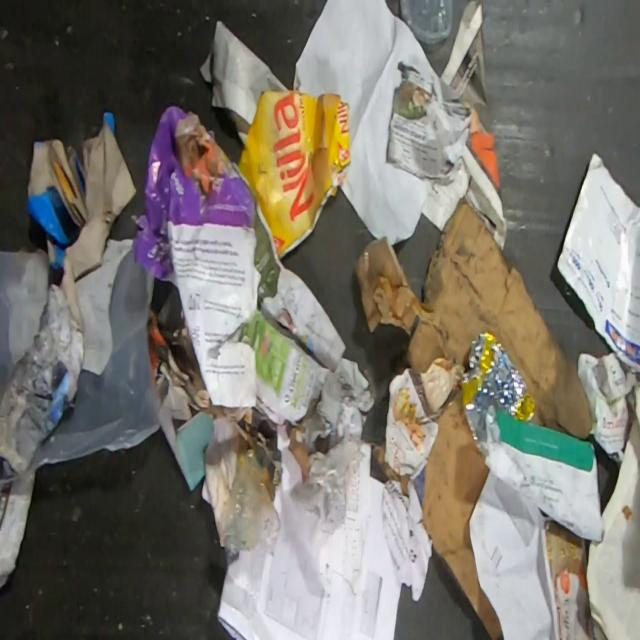cardboard: (355, 194, 594, 442), (420, 394, 504, 640), (236, 89, 352, 260)
metal: (461, 333, 534, 441)
soft_plastic: (33, 248, 162, 471), (0, 247, 52, 405), (220, 448, 282, 567)
